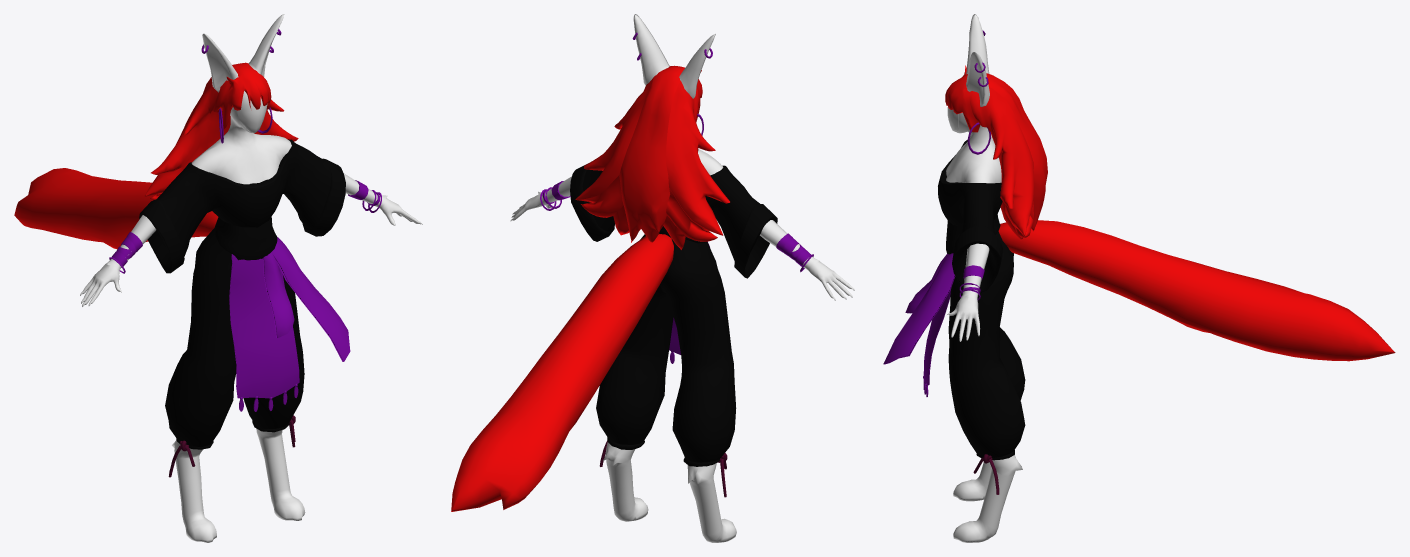
The model's file is Model_NPC_Freya.fbx.
3 renders of one model, left to right at view 1: azimuth 30°, elevation 25°; view 2: azimuth 150°, elevation 25°; view 3: azimuth 270°, elevation 25°, orthographic. The views are drawn at different scales.
Parts seen in each view (by area): view 1: Model_Freya_Clothes, Model_Freya_Body, Model_Freya_Tail, Model_Freya_Fabric03, Model_Freya_Hair, Model_Freya_Fabric01, Model_Freya_Fabric02, Model_Freya_Mask, Model_Freya_WristBand_Right; view 2: Model_Freya_Clothes, Model_Freya_Tail, Model_Freya_Hair, Model_Freya_Body, Model_Freya_WristBand_Right; view 3: Model_Freya_Tail, Model_Freya_Clothes, Model_Freya_Body, Model_Freya_Hair, Model_Freya_Fabric01, Model_Freya_Fabric03.
Boxes of the visible parts, x1,y1,x2,y2 form: Model_Freya_Clothes: [139, 139, 345, 477]; Model_Freya_Body: [80, 14, 422, 542]; Model_Freya_Tail: [14, 168, 218, 249]; Model_Freya_Fabric03: [229, 254, 299, 411]; Model_Freya_Hair: [144, 62, 298, 200]; Model_Freya_Fabric01: [271, 237, 350, 361]; Model_Freya_Fabric02: [263, 252, 294, 337]; Model_Freya_Mask: [237, 91, 267, 133]; Model_Freya_WristBand_Right: [112, 232, 142, 267]; Model_Freya_Clothes: [570, 164, 777, 497]; Model_Freya_Tail: [451, 234, 673, 511]; Model_Freya_Hair: [575, 65, 729, 249]; Model_Freya_Body: [510, 14, 854, 542]; Model_Freya_WristBand_Right: [776, 233, 811, 266]; Model_Freya_Tail: [998, 220, 1395, 361]; Model_Freya_Clothes: [938, 140, 1025, 494]; Model_Freya_Body: [946, 14, 1022, 542]; Model_Freya_Hair: [945, 65, 1047, 240]; Model_Freya_Fabric01: [883, 253, 955, 364]; Model_Freya_Fabric03: [923, 288, 951, 396].
Size of the model in its own units: 1.38 by 1.95 by 1.88.
